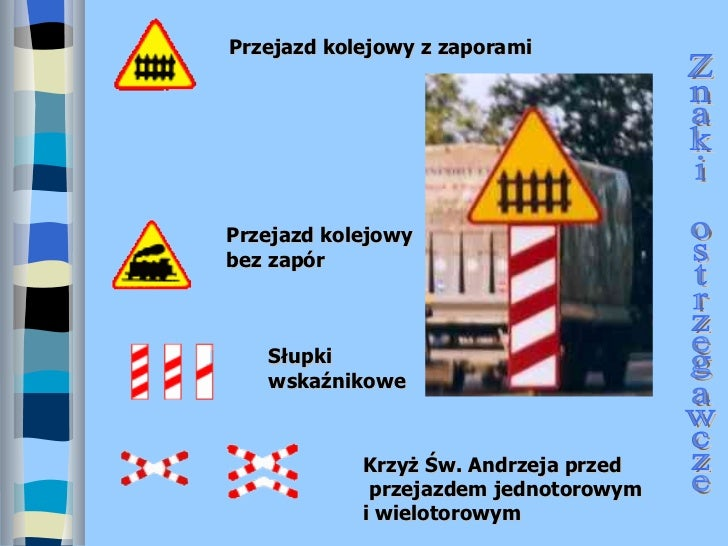a10: (120, 242, 182, 284)
a9: (495, 166, 575, 216), (132, 52, 178, 83)
